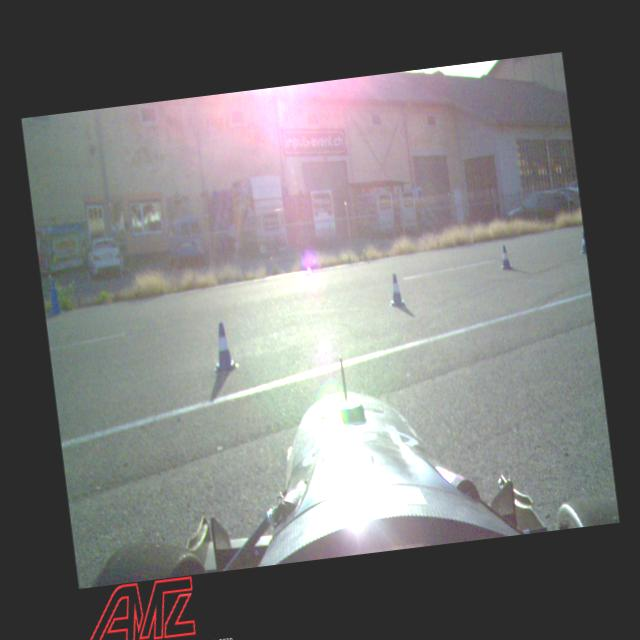blue_cone: (208, 319, 239, 372), (386, 272, 407, 308), (498, 243, 512, 270), (578, 230, 586, 253)
